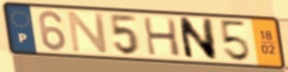5: (106, 12, 143, 56), (217, 20, 253, 63)
6: (37, 9, 69, 53)
H: (141, 15, 183, 58)
N: (65, 10, 111, 54), (176, 16, 219, 62)
